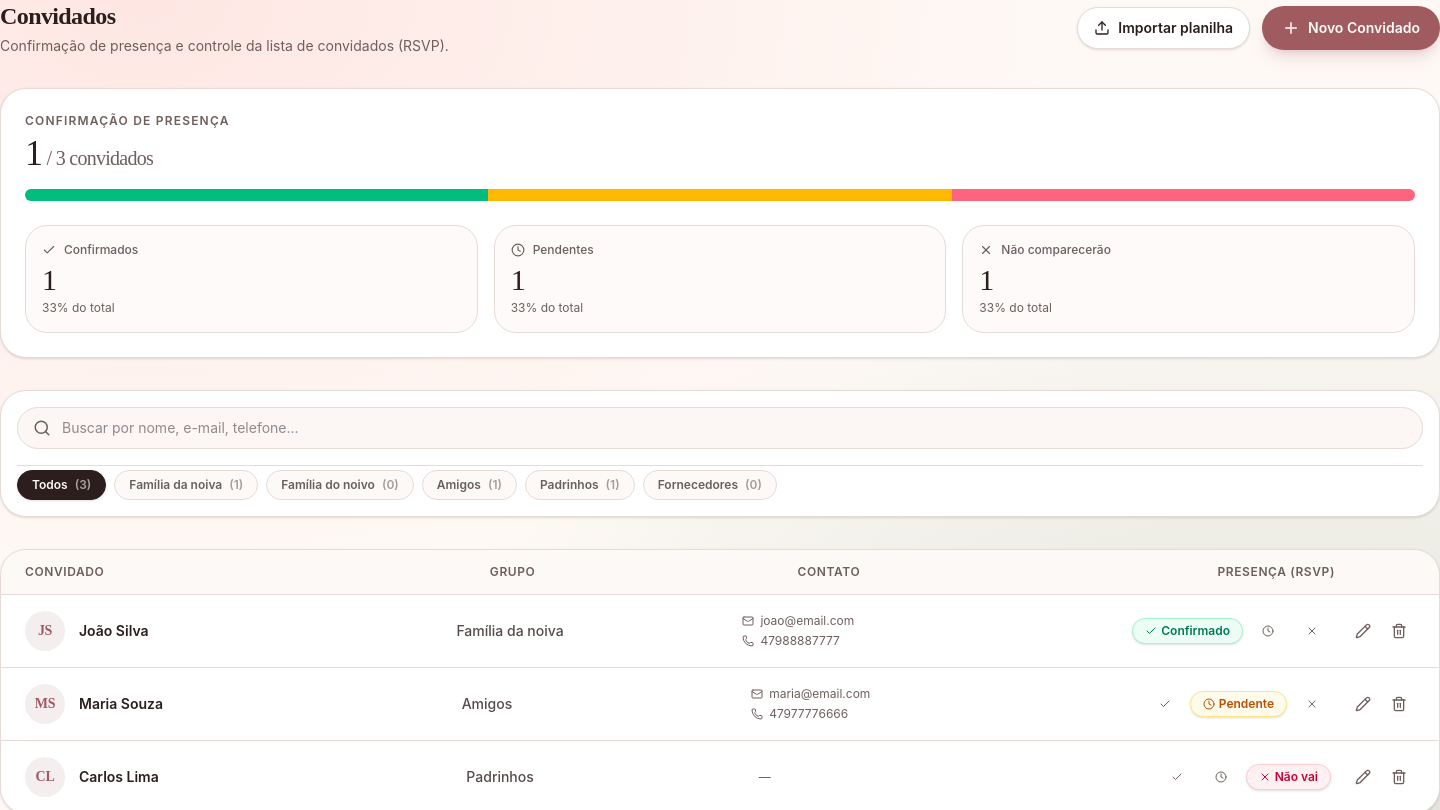
ConvidadosPage Component › deve filtrar convidados por grupo ao clicar nos botões de filtro
expect the text "João Silva" is shown: met, box [79, 621, 149, 641]
Click the button "Amigos (1)".
click(469, 485)  # box [422, 470, 517, 500]
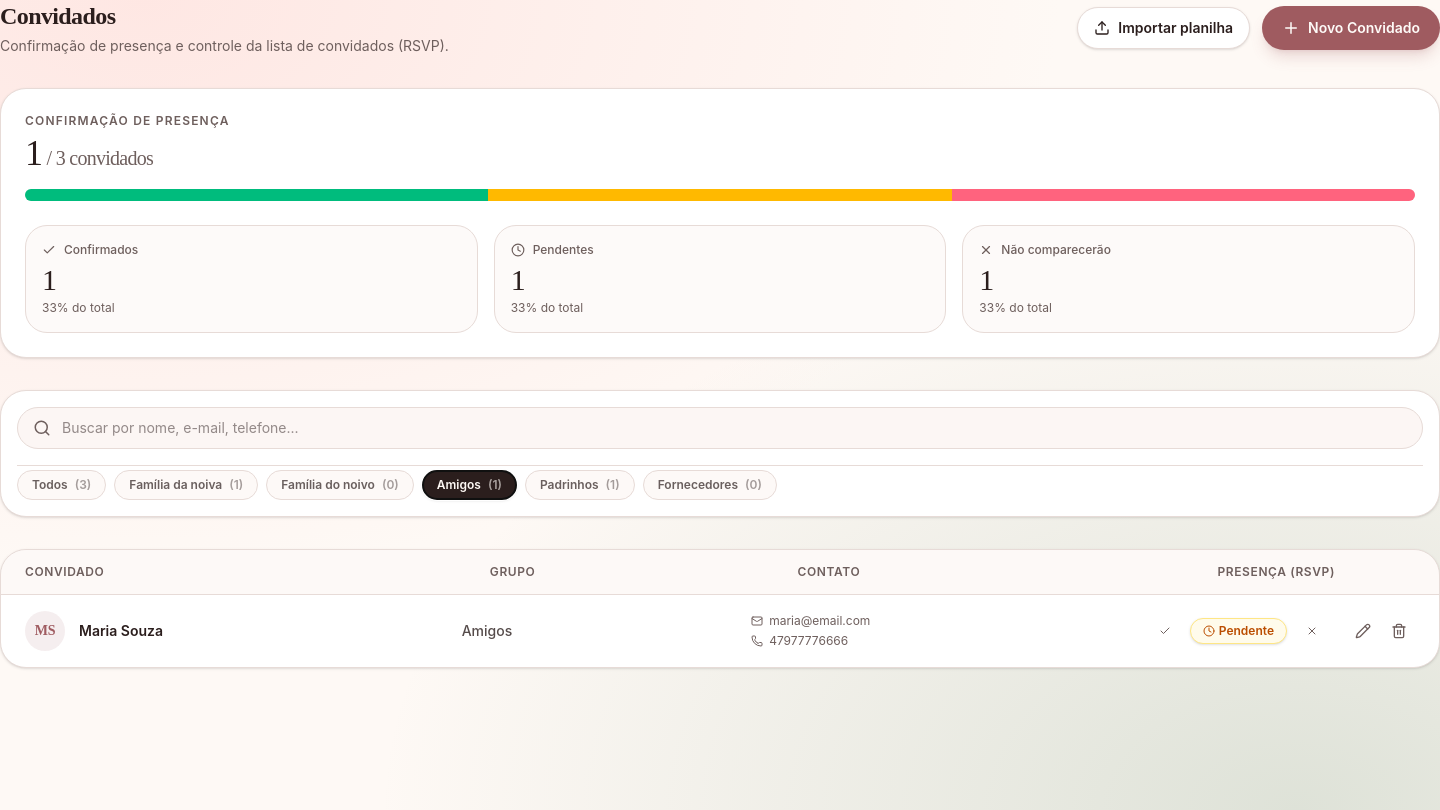
expect the text "Maria Souza" is shown: met, box [79, 621, 163, 641]
expect the text "João Silva" is gone: met
expect the text "Carlos Lima" is gone: met
